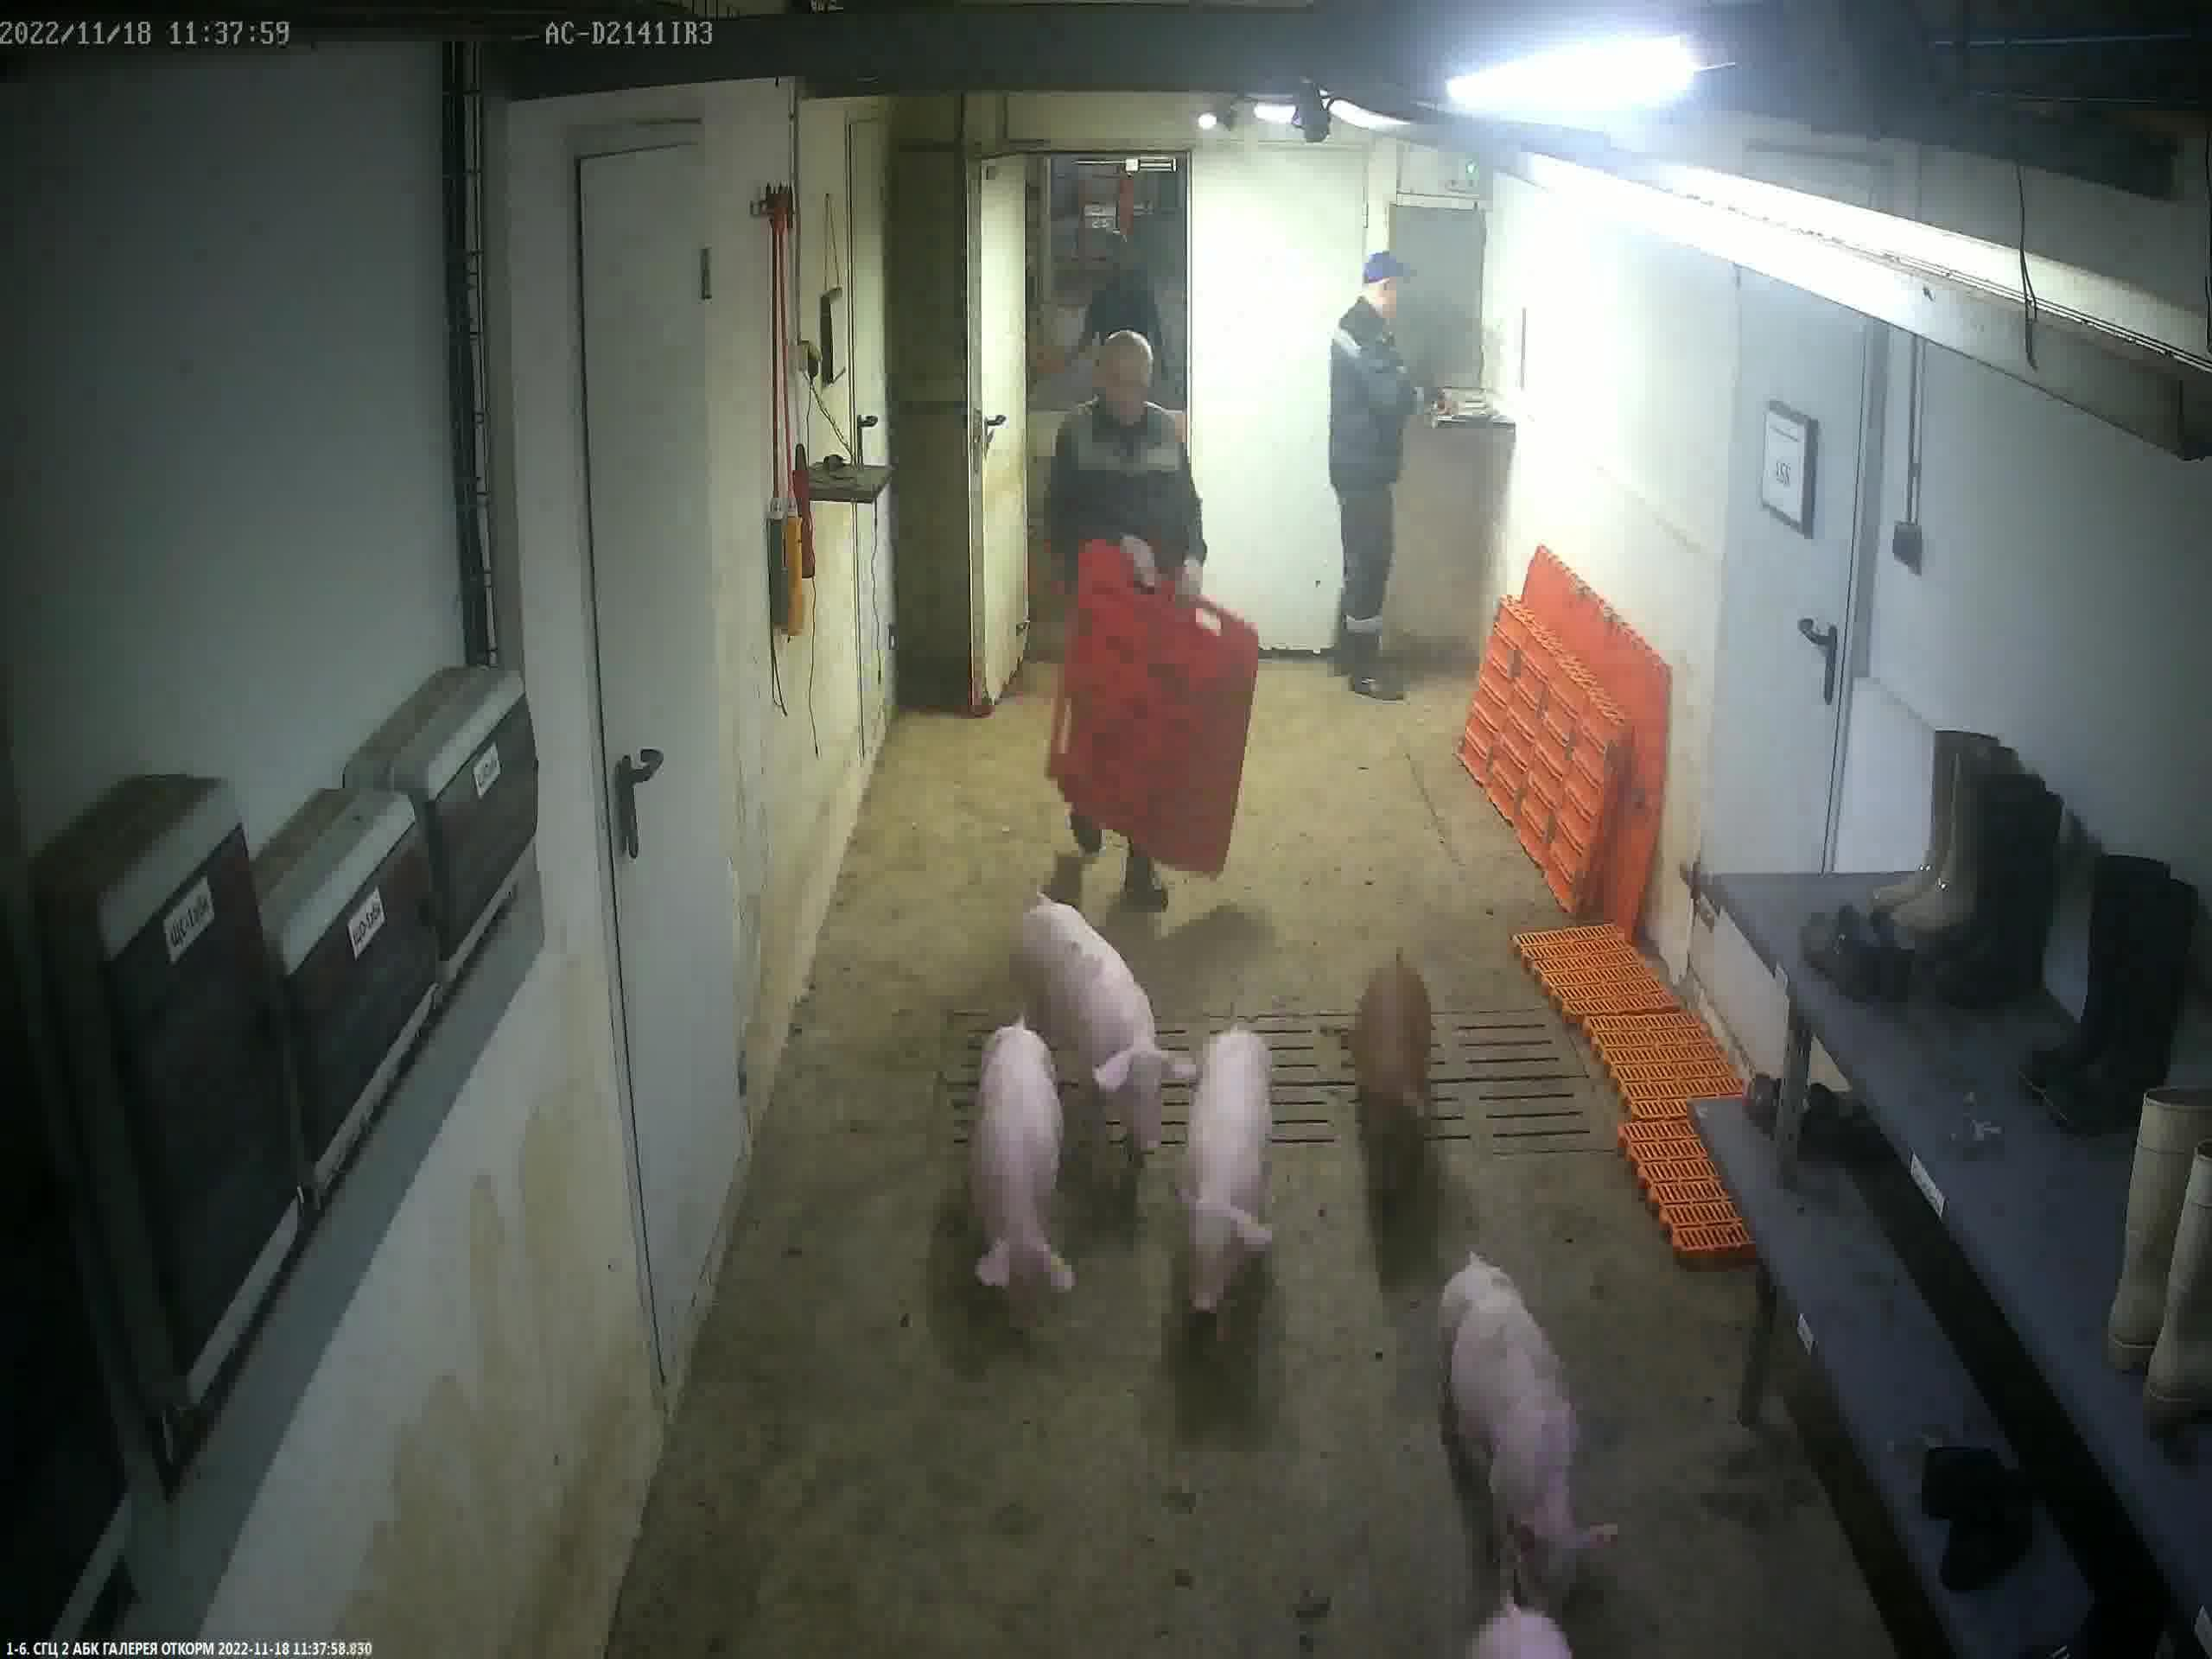Pigs: (1444, 1262, 1618, 1595), (1024, 903, 1197, 1152), (970, 1019, 1076, 1310), (1177, 1030, 1277, 1335), (1359, 965, 1425, 1188), (1463, 1593, 1580, 1659)
